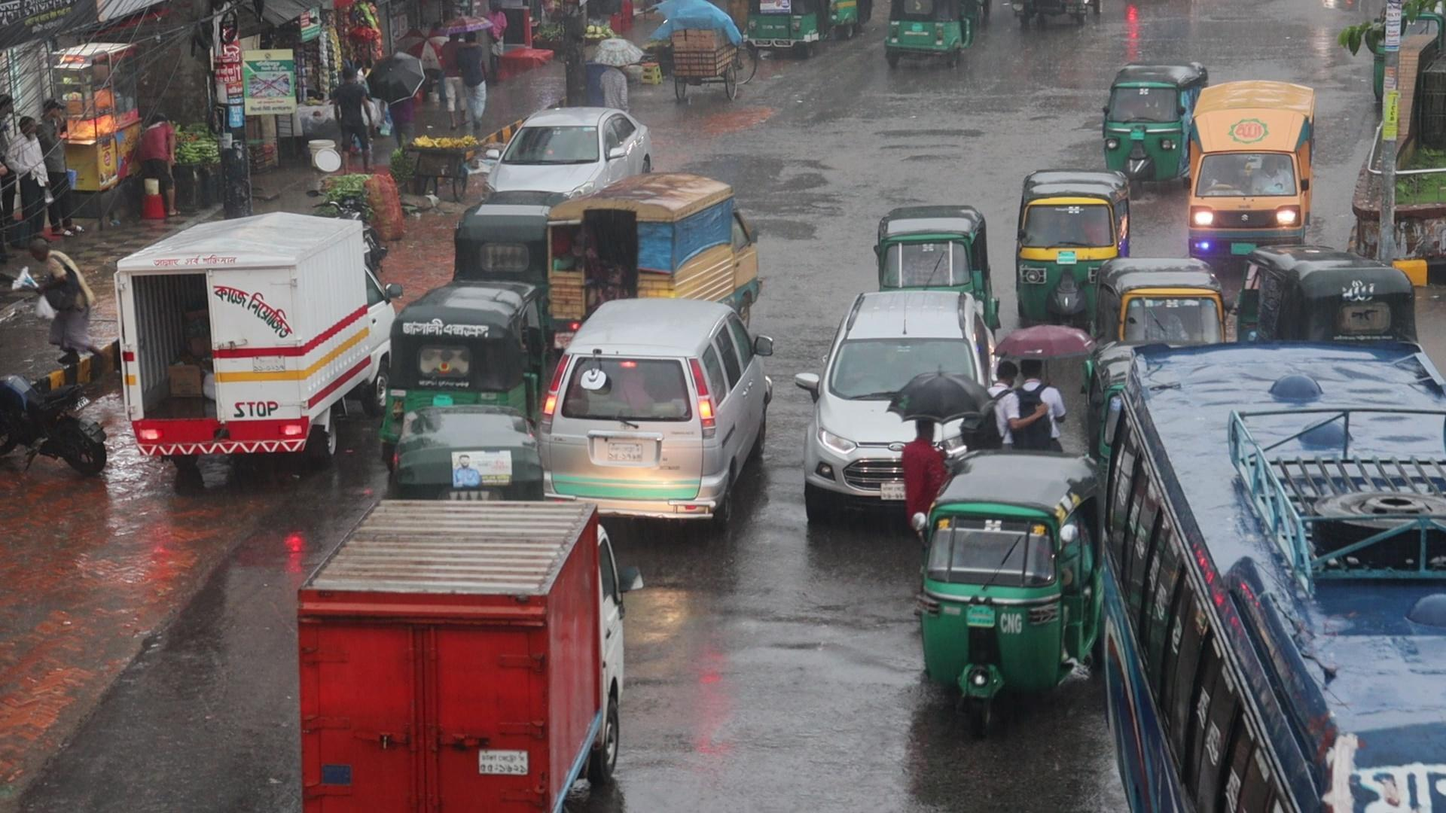Car: (537, 293, 779, 519), (794, 275, 975, 506)
Truck: (289, 489, 642, 813), (541, 169, 759, 294), (1186, 76, 1316, 251)
